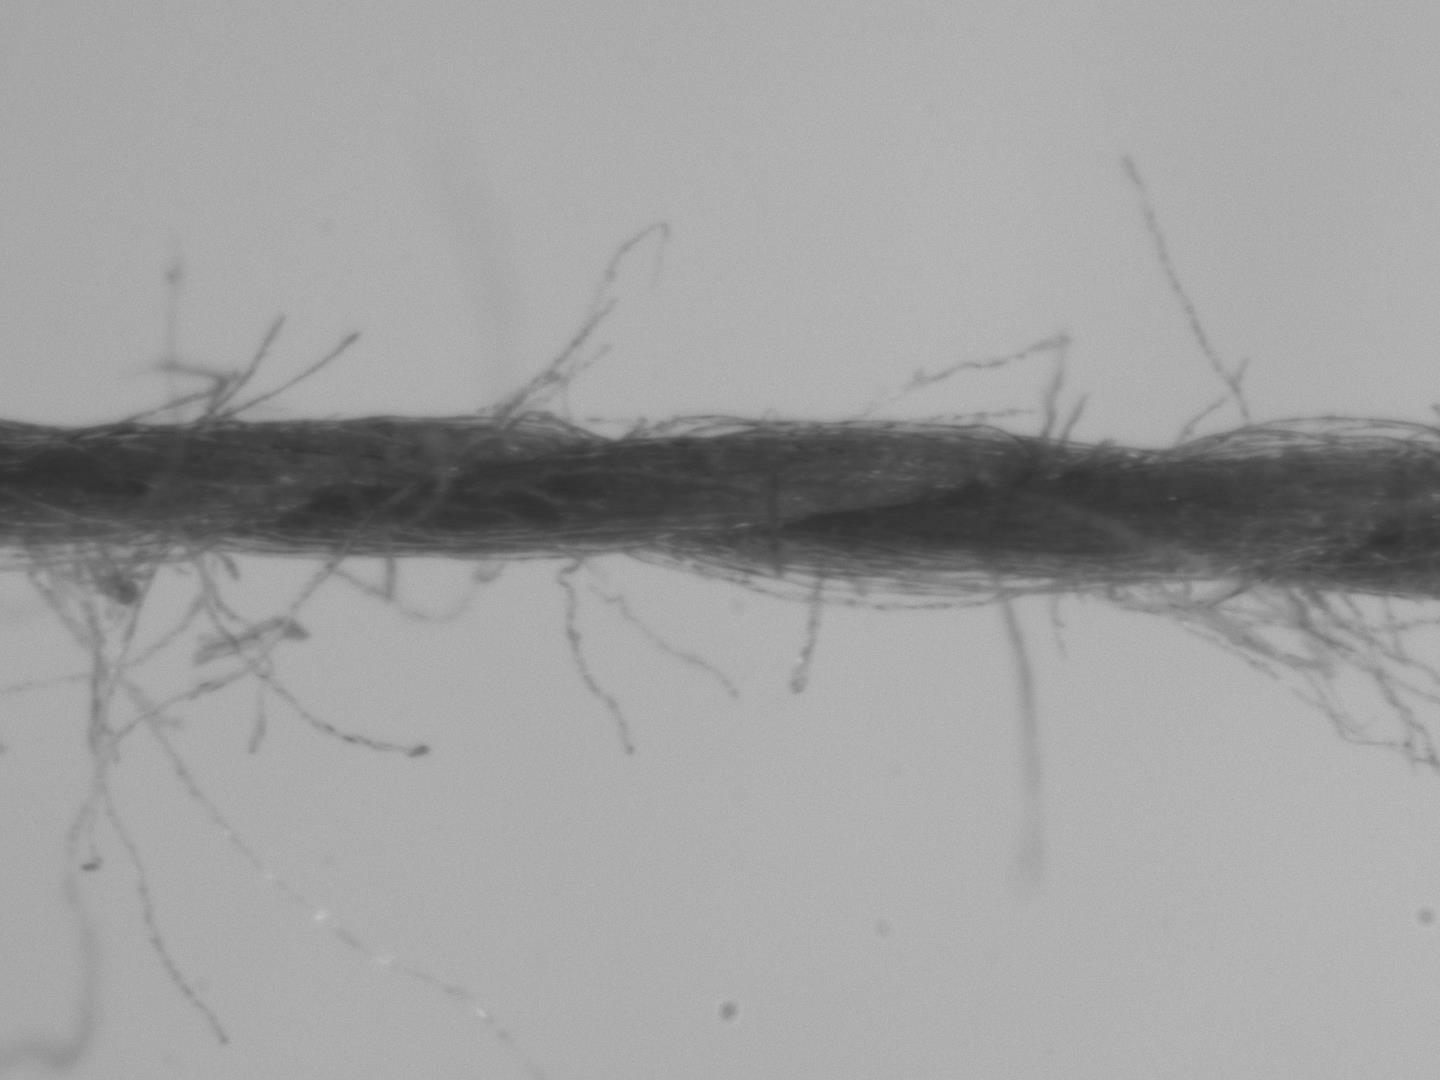loop_fiber: (632, 552, 1144, 615), (839, 327, 1078, 450), (296, 551, 523, 632), (1200, 400, 1439, 470), (494, 399, 805, 442)
protruding_fiber: (20, 547, 562, 1079), (1, 522, 362, 1077), (50, 543, 238, 1064), (177, 546, 440, 766), (1102, 144, 1265, 453), (464, 211, 686, 432), (576, 542, 753, 710), (547, 550, 657, 768), (982, 566, 1047, 904), (187, 322, 364, 431), (142, 219, 196, 431), (1160, 340, 1264, 446), (213, 303, 298, 432), (1041, 565, 1087, 666), (881, 404, 1036, 431), (1058, 382, 1098, 453)
